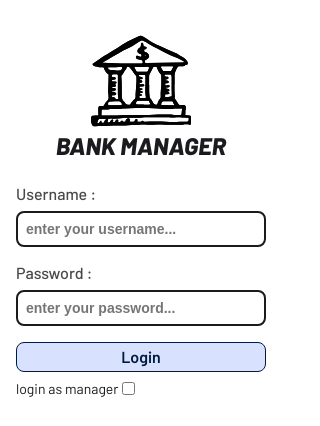
Test: login route --> pressing login button... › inputs are empty › show error if both are empty
Click the button with test id "login-button": (141, 357) [16,342,266,372]
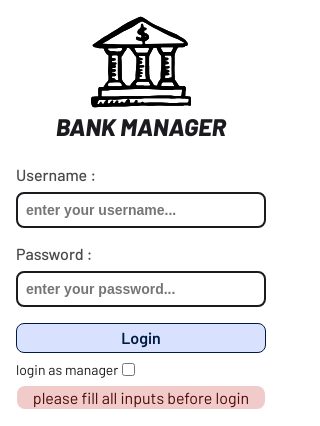
Expected: the text "please fill all inputs before login" is shown, [17,386,265,408]
